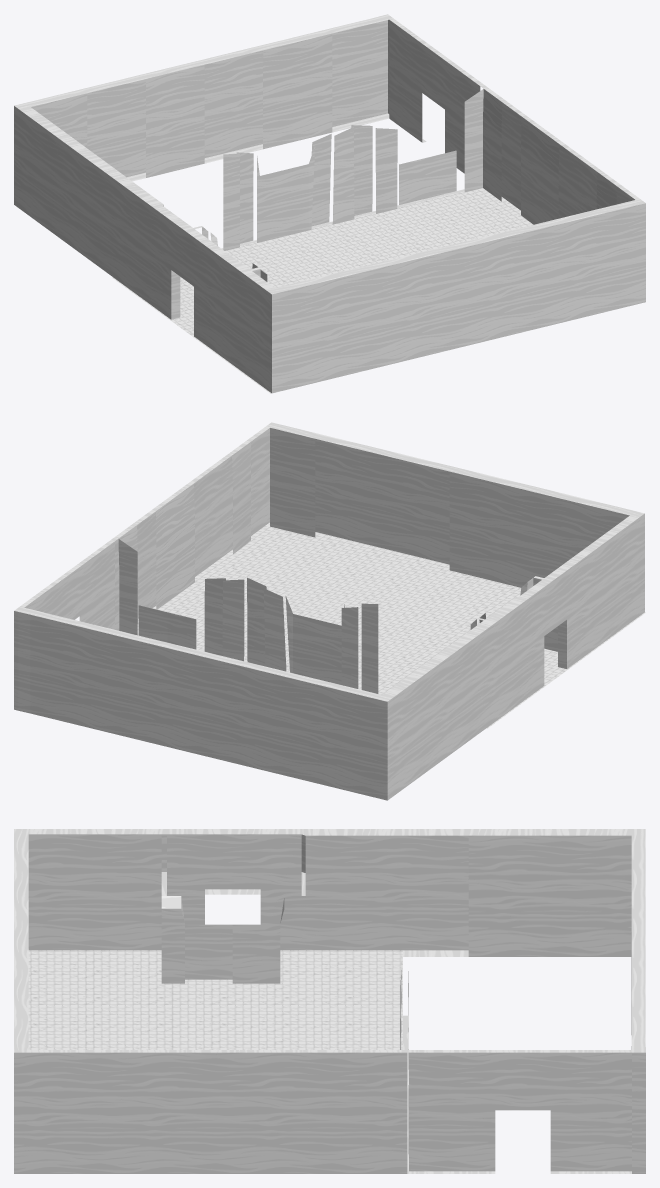
File: ConveyorBeltRoomLIGHT.fbx
The picture shows the model from 3 angles, top to bottom: view 1: azimuth 30°, elevation 25°; view 2: azimuth 150°, elevation 25°; view 3: azimuth 270°, elevation 25°; orthographic projection. The views are drawn at different scales.
Parts seen in each view (by area): view 1: ConveyorBeltRoom.001; view 2: ConveyorBeltRoom.001; view 3: ConveyorBeltRoom.001.
Part boxes in pixels (box(x1,y1,x2,y2)): ConveyorBeltRoom.001: box(14, 14, 645, 393); ConveyorBeltRoom.001: box(14, 422, 645, 800); ConveyorBeltRoom.001: box(14, 829, 645, 1173).
Bounding box in the file's own units: 10276 × 2591 × 12236.
